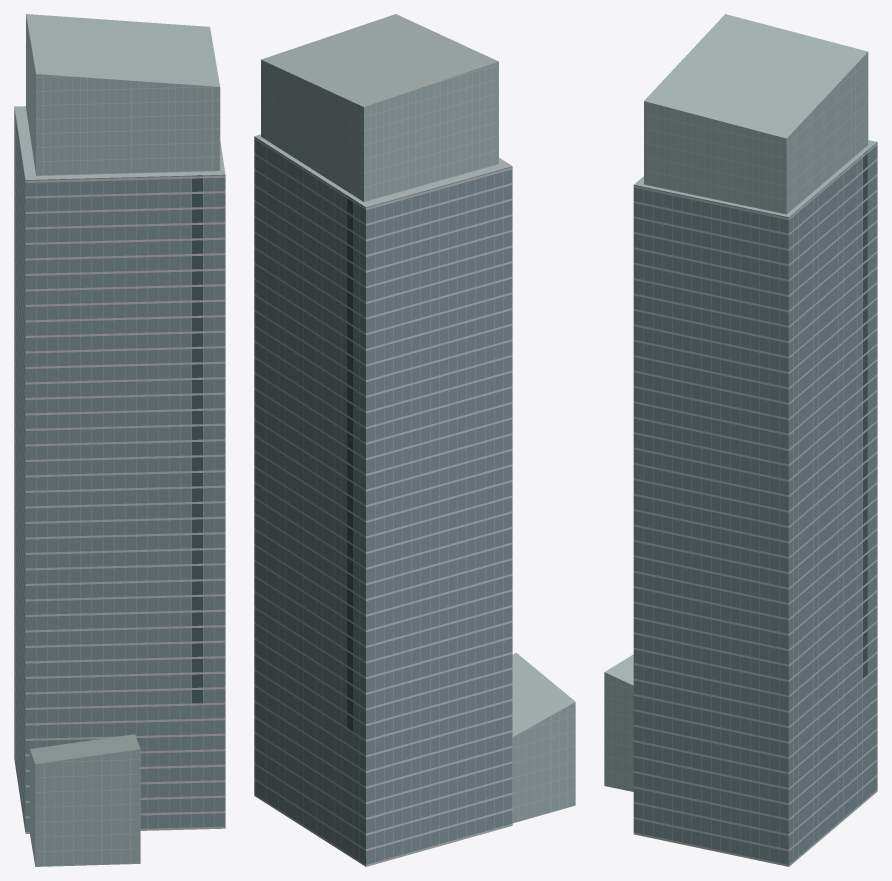
Rendered from tour-saint-gobain-near.glb.
The picture shows the model from 3 angles, left to right: view 1: azimuth 30°, elevation 25°; view 2: azimuth 150°, elevation 25°; view 3: azimuth 270°, elevation 25°; orthographic projection.
Parts seen in each view (by area): view 1: tour-saint-gobain-0-glass, tour-saint-gobain-0-frame, tour-saint-gobain-0-glassPale, tour-saint-gobain-0-roof, tour-saint-gobain-0-garden; view 2: tour-saint-gobain-0-glass, tour-saint-gobain-0-frame, tour-saint-gobain-0-glassPale, tour-saint-gobain-0-roof, tour-saint-gobain-0-garden; view 3: tour-saint-gobain-0-glass, tour-saint-gobain-0-frame, tour-saint-gobain-0-glassPale, tour-saint-gobain-0-roof, tour-saint-gobain-0-garden.
Boxes of the visible parts, x1,y1,x2,y2 form: tour-saint-gobain-0-glass: [14, 106, 224, 831]; tour-saint-gobain-0-frame: [14, 24, 225, 866]; tour-saint-gobain-0-glassPale: [26, 15, 219, 866]; tour-saint-gobain-0-roof: [14, 14, 225, 763]; tour-saint-gobain-0-garden: [192, 175, 202, 703]; tour-saint-gobain-0-glass: [254, 136, 512, 864]; tour-saint-gobain-0-frame: [254, 62, 575, 866]; tour-saint-gobain-0-glassPale: [261, 60, 575, 822]; tour-saint-gobain-0-roof: [254, 14, 575, 736]; tour-saint-gobain-0-garden: [347, 195, 353, 731]; tour-saint-gobain-0-glass: [633, 142, 877, 864]; tour-saint-gobain-0-frame: [604, 52, 877, 866]; tour-saint-gobain-0-glassPale: [604, 52, 867, 791]; tour-saint-gobain-0-roof: [604, 14, 876, 685]; tour-saint-gobain-0-garden: [863, 150, 867, 678].
Size of the model in its own units: 61.38 by 178 by 58.7.
